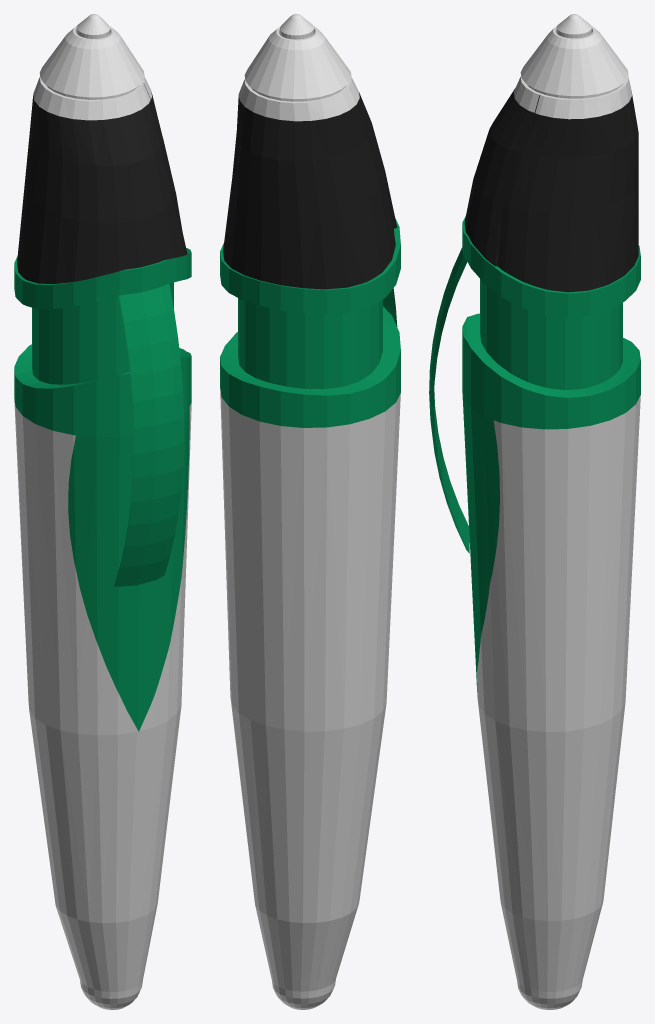
3 views of the same model, side by side, from view 1: azimuth 30°, elevation 25°; view 2: azimuth 150°, elevation 25°; view 3: azimuth 270°, elevation 25° (orthographic).
Visible parts, largest first — view 1: chubby ball point pen; view 2: chubby ball point pen; view 3: chubby ball point pen.
Boxes of the visible parts, x1,y1,x2,y2 form: chubby ball point pen: (14, 14, 191, 1009); chubby ball point pen: (220, 14, 400, 1009); chubby ball point pen: (429, 14, 640, 1009).
Size of the model in its own units: 70.89 by 434 by 84.06.
